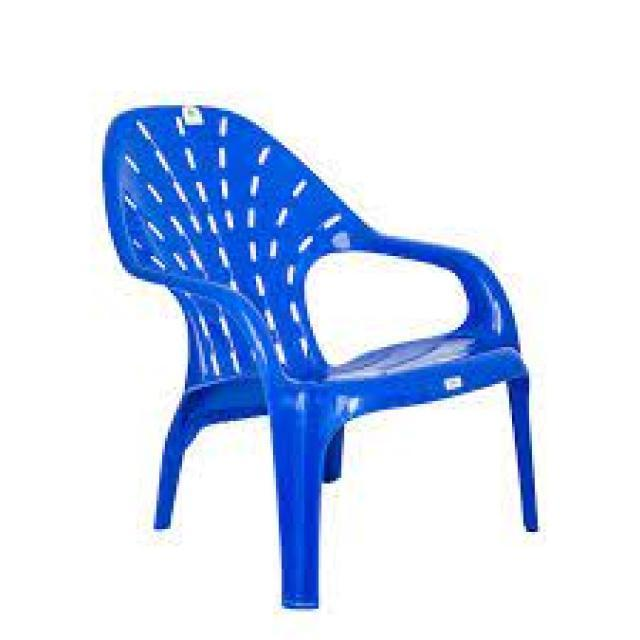chair: (96, 102, 540, 606)
